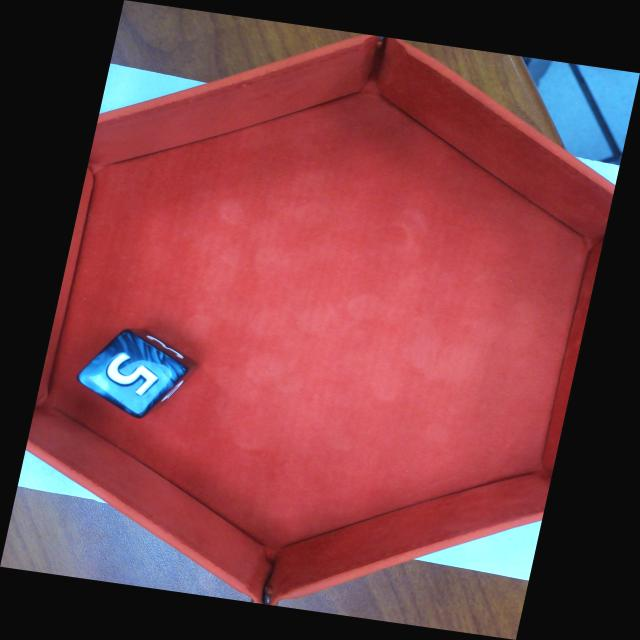dice: (70, 326, 191, 423)
